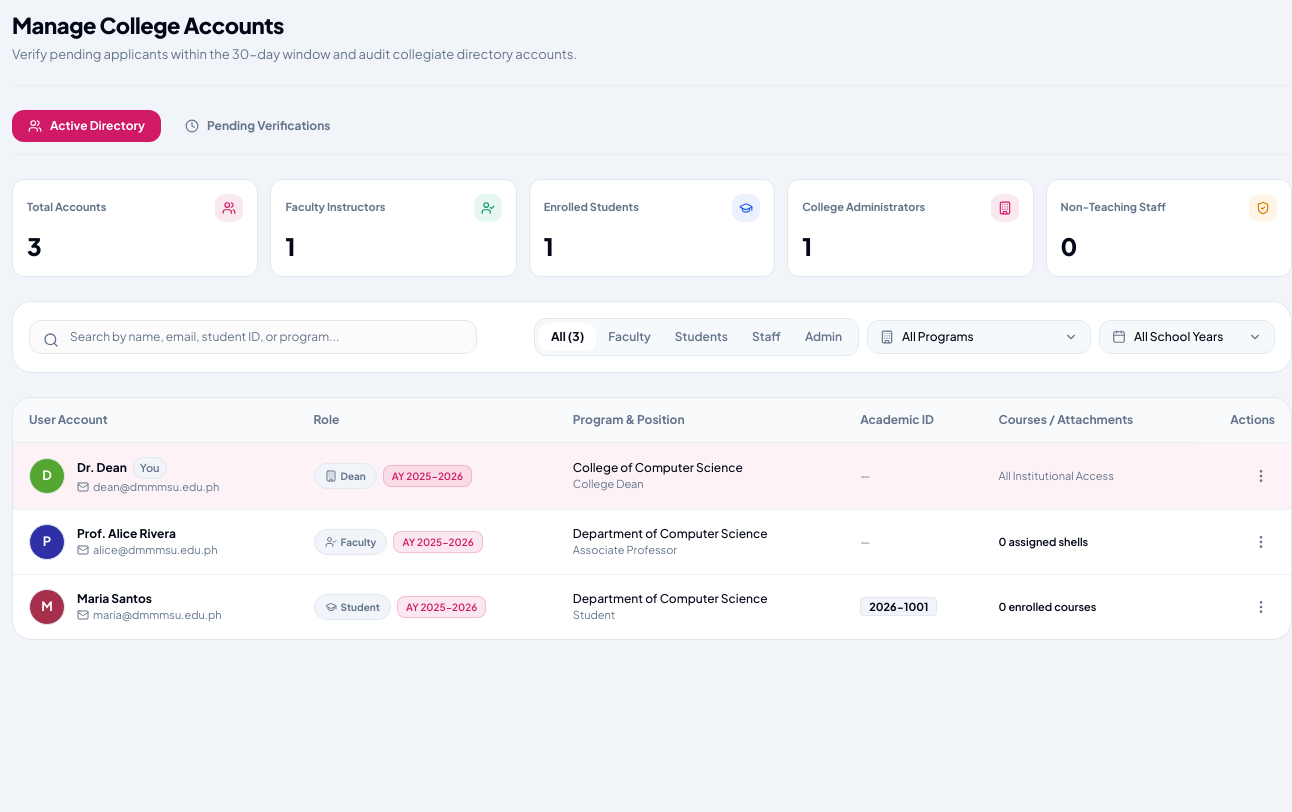
Test: ManageAccountsPage Actions Column (3-Dot Menu & View Profile) › opens dropdown menu showing View, Edit, and Delete options when 3-dot is clicked
The width and height of the screenshot is (1292, 812).
Click the button named "Actions for Maria Santos" at (1261, 607), box [1247,593,1275,621]
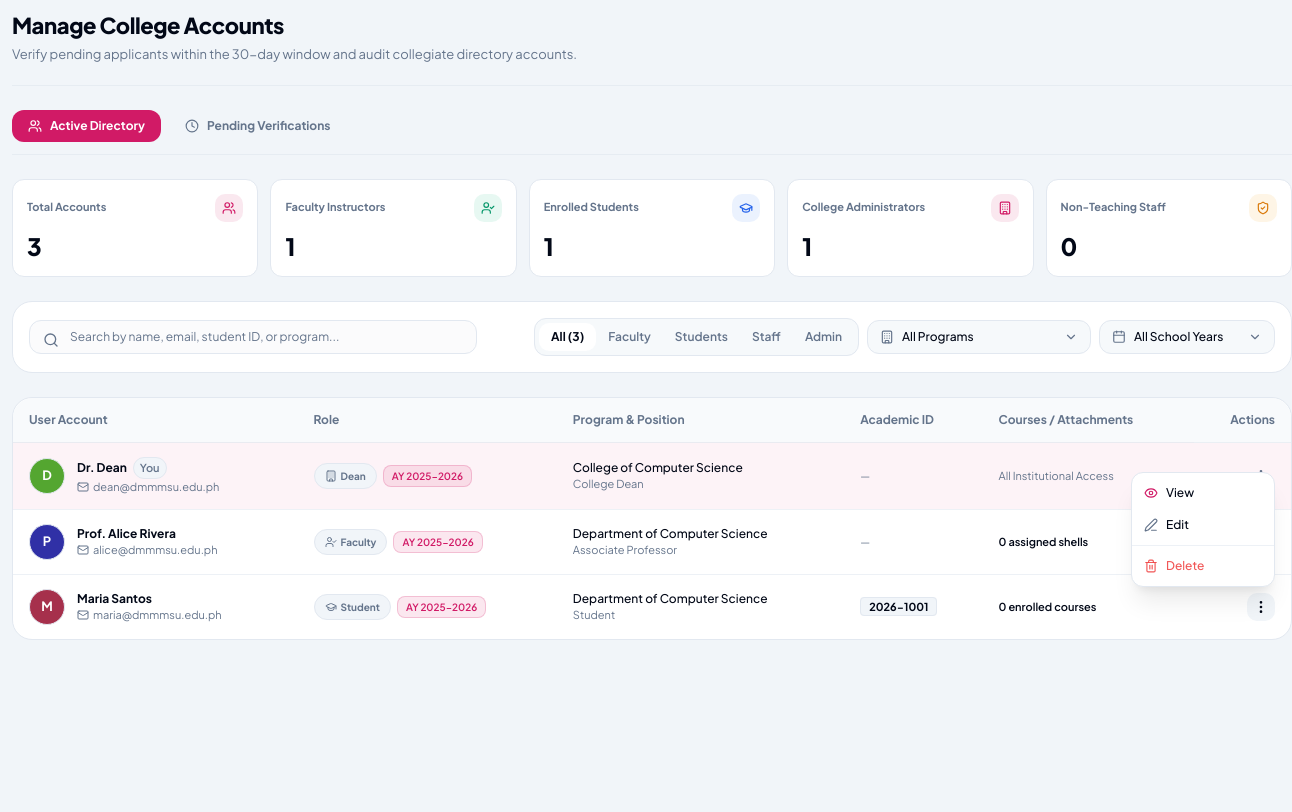
Expected: the menu is shown, [1131,472,1275,587]
Expected: the menu item "View" is shown, [1132,477,1274,509]
Expected: the menu item "Edit" is shown, [1132,509,1274,541]
